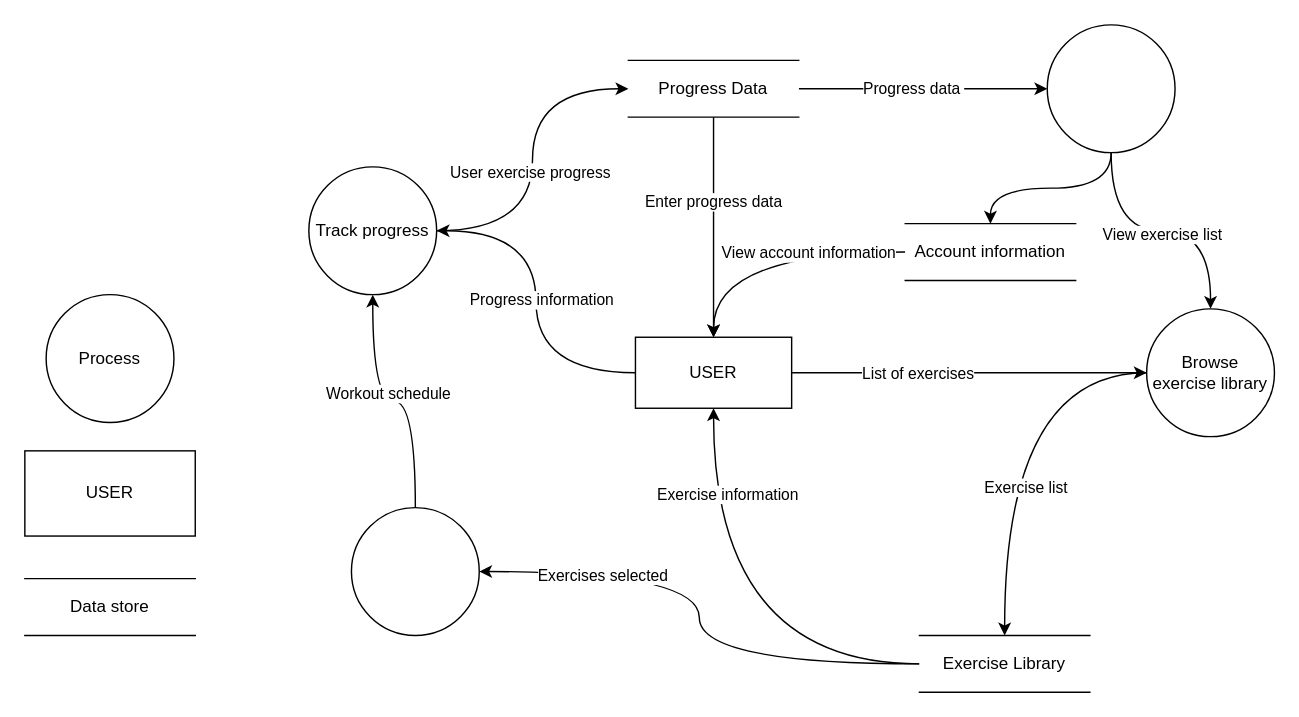
Some shapes in this 1299 by 717 pixel diagram are drawn without their labels. The box of each missing label's shape, as (x1, y1, x2, y2) in pixels:
Create workout schedule: (350, 506, 479, 635)
Manage profile: (1046, 23, 1175, 153)
